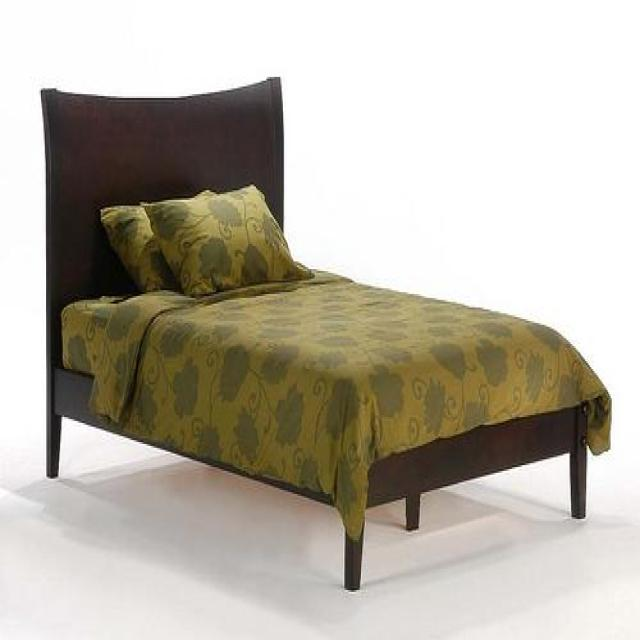bed: (40, 75, 612, 590)
